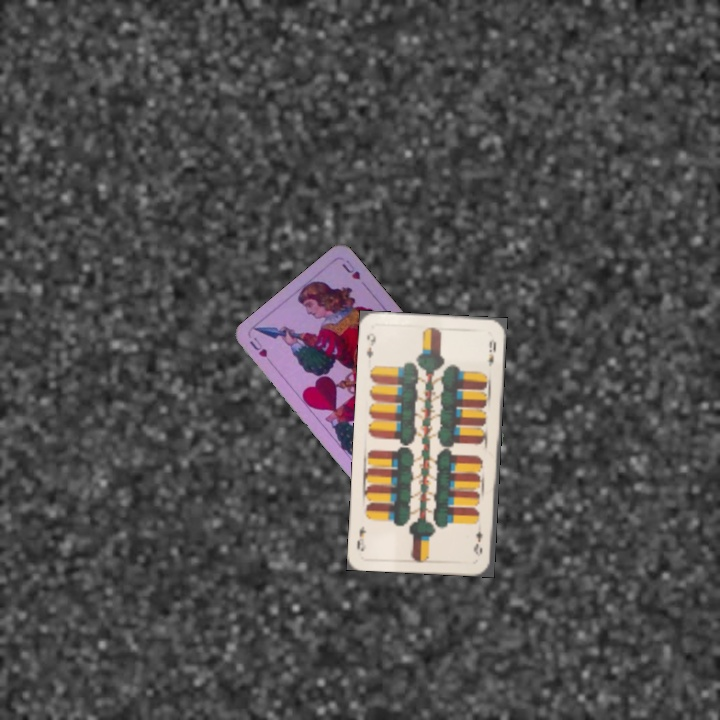E9: (362, 329, 378, 361), (471, 527, 485, 559)
HU: (245, 333, 270, 360)
